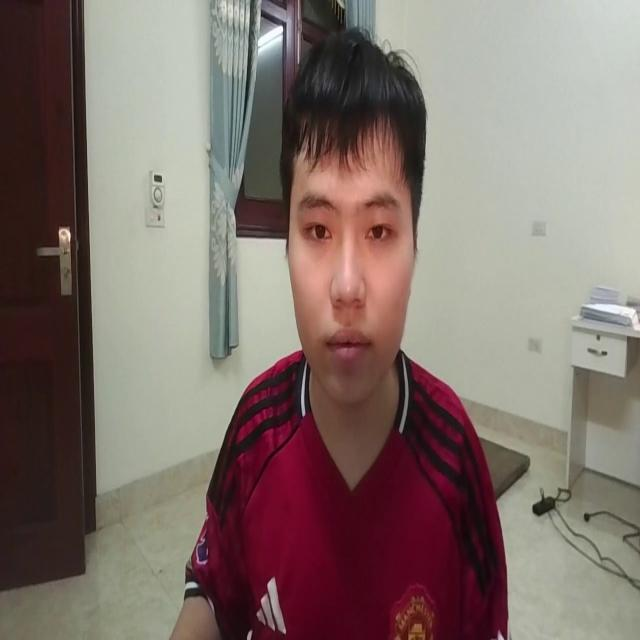student: (168, 19, 509, 640)
